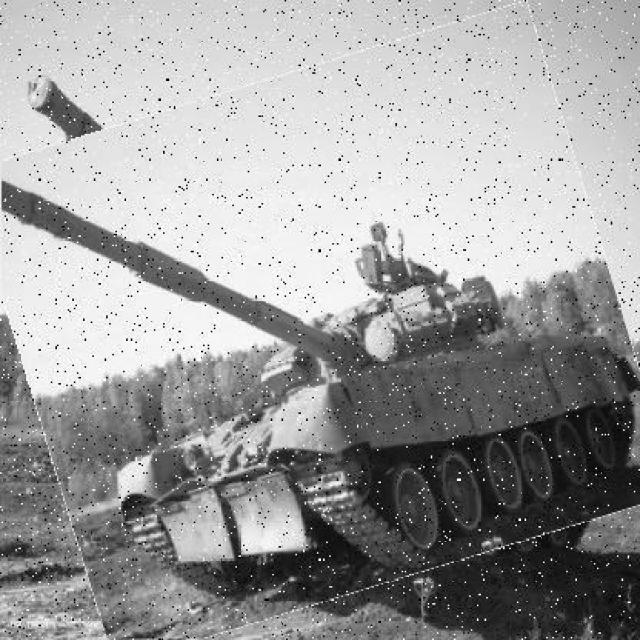Tank: (3, 37, 640, 631)
